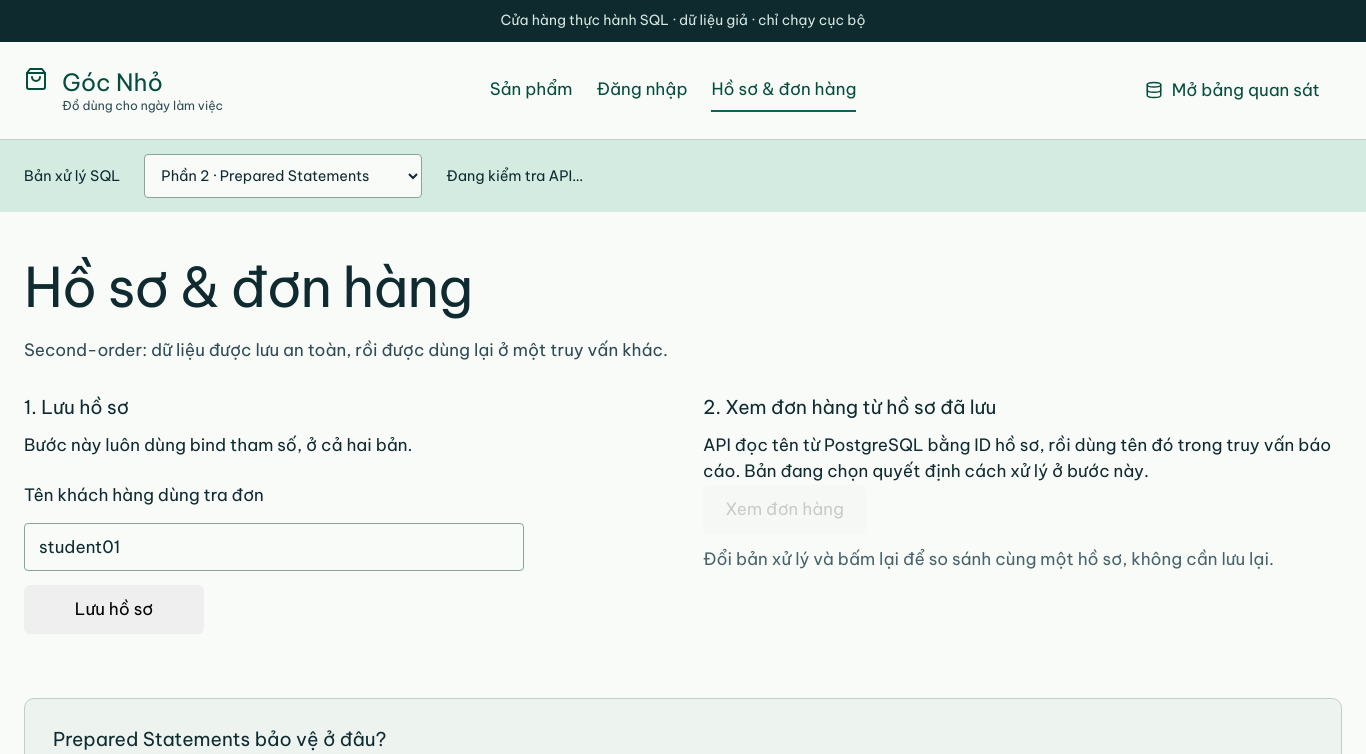
Test case: Shop forms › reuses the saved profile ID across both report modes
The image size is (1366, 754).
Later steps or results of the test are not shown.
Replace the text in the field labelled "Tên khách hàng dùng tra đơn" with "admin' -- " at {"x": 274, "y": 547}, box [24, 522, 524, 571]
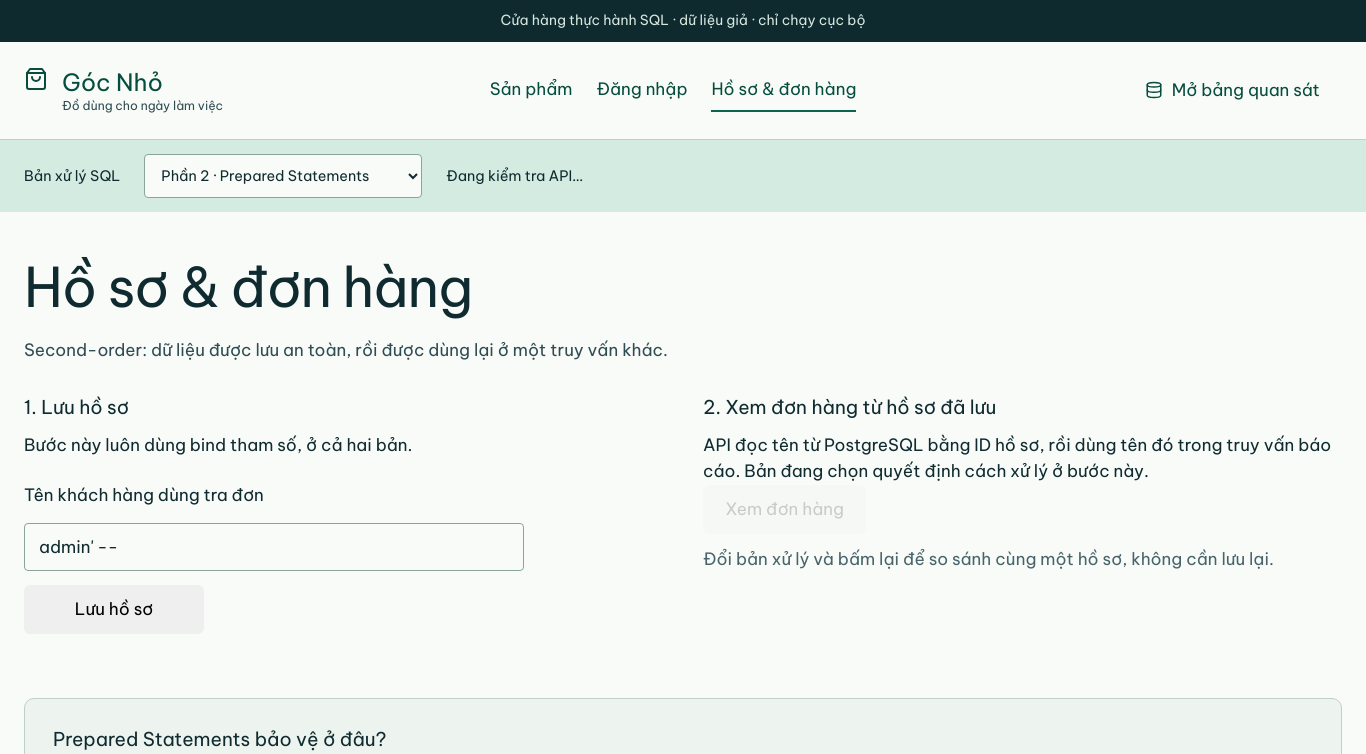
Click the button "Lưu hồ sơ" at {"x": 114, "y": 609}, box [24, 585, 204, 634]
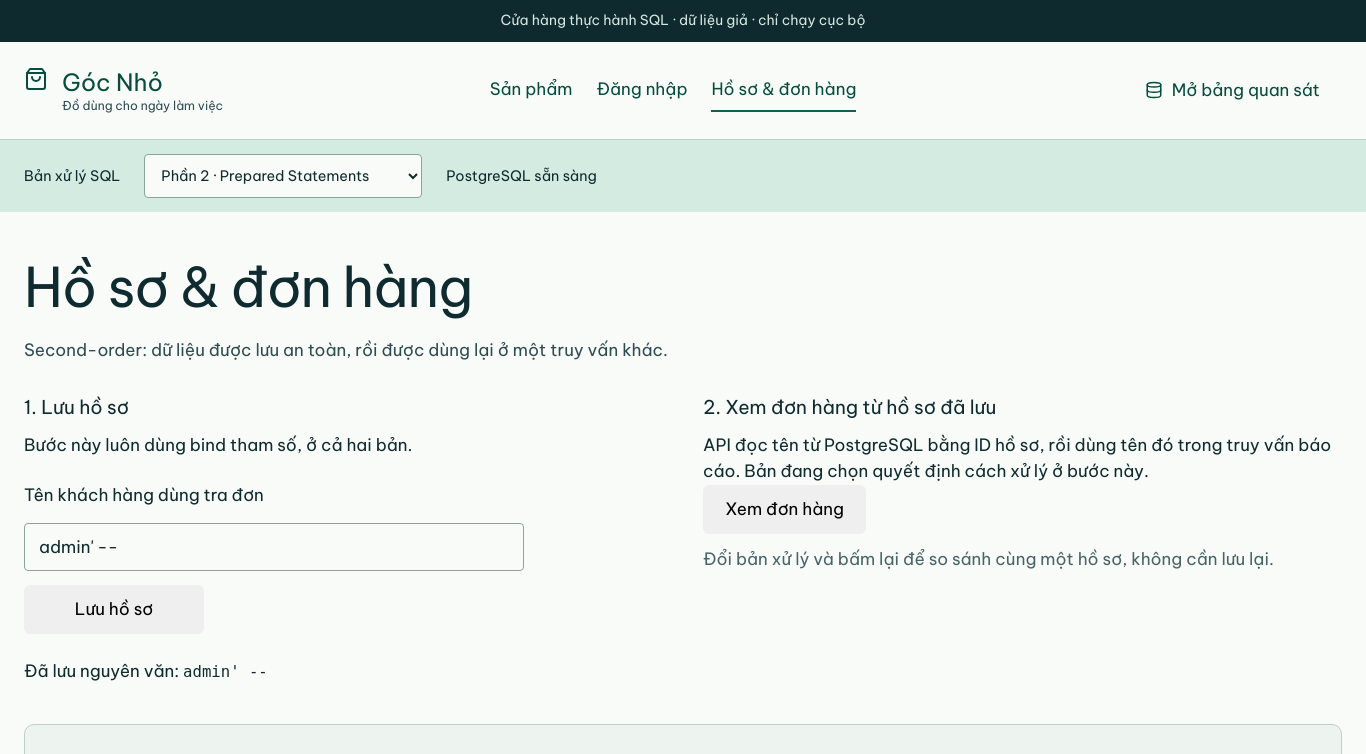
Expected: the text "Đã lưu nguyên văn:" is shown, [24, 660, 183, 682]
Select "Phần 1 · Không bảo vệ (nối chuỗi)" in the dropdown labelled "Bản xử lý SQL" at {"x": 283, "y": 176}, box [144, 154, 422, 198]
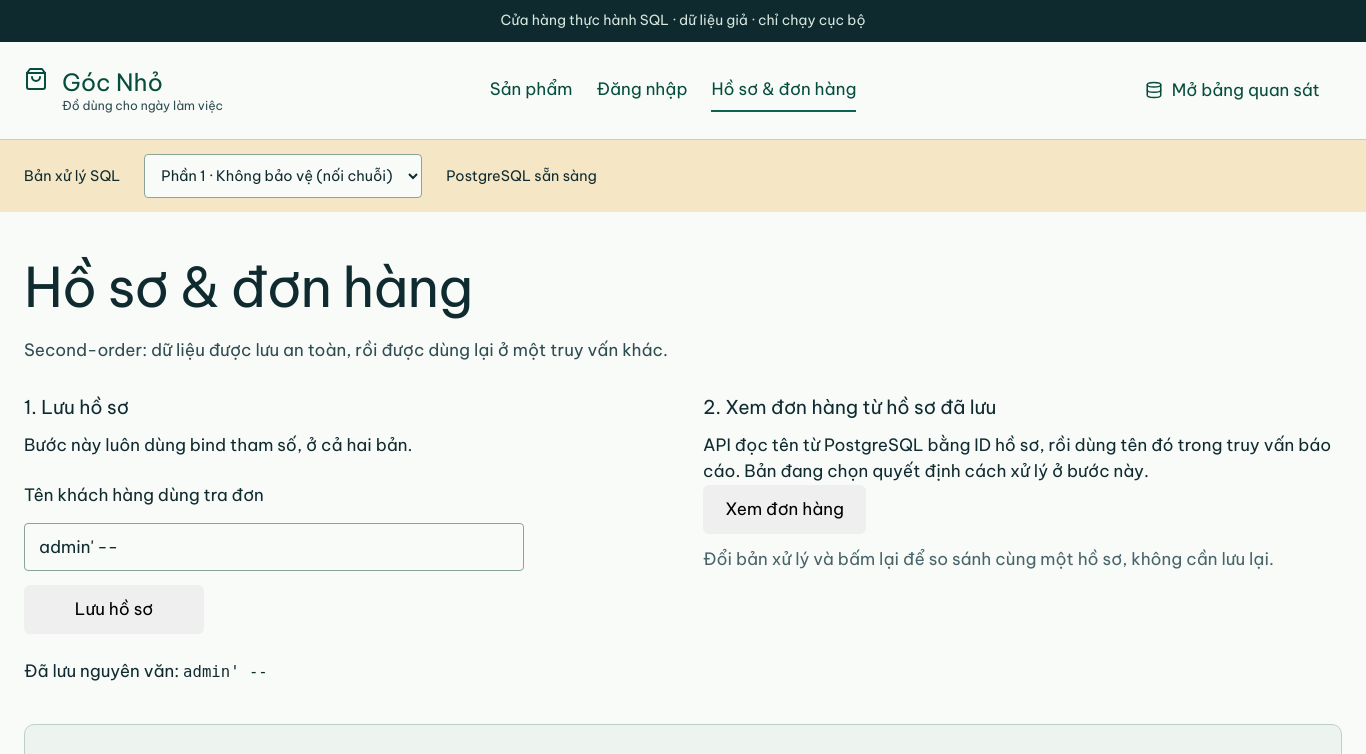
Click the button "Xem đơn hàng" at {"x": 785, "y": 509}, box [703, 484, 866, 534]
Expected: the button "Xem đơn hàng" is enabled, [703, 484, 866, 534]
